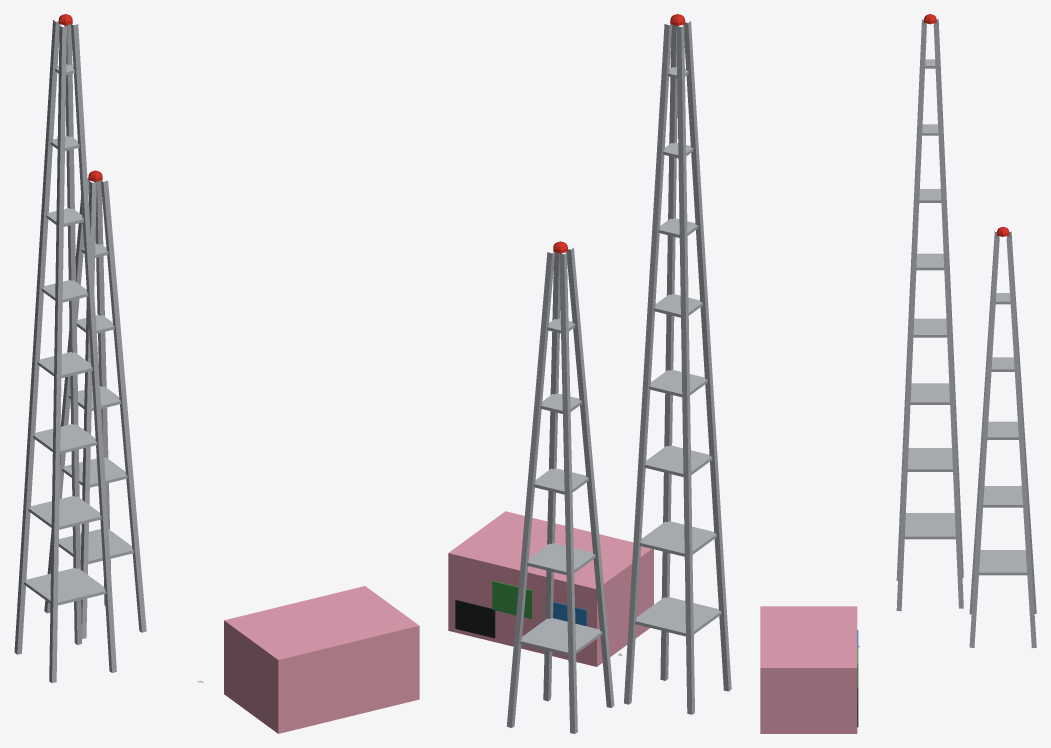
The model's file is hooiberg_summit.glb.
3 views of the same model, side by side, from view 1: azimuth 30°, elevation 25°; view 2: azimuth 150°, elevation 25°; view 3: azimuth 270°, elevation 25° (orthographic). The views are drawn at different scales.
Visible parts, largest first — view 1: hooiberg_summit_lod0; view 2: hooiberg_summit_lod0; view 3: hooiberg_summit_lod0.
Boxes of the visible parts, <box> form: hooiberg_summit_lod0: <box>14,14,419,733</box>; hooiberg_summit_lod0: <box>448,14,731,733</box>; hooiberg_summit_lod0: <box>760,14,1036,733</box>.
Size of what is drawn, in the model's own units: 12.38 by 27.56 by 11.38.
